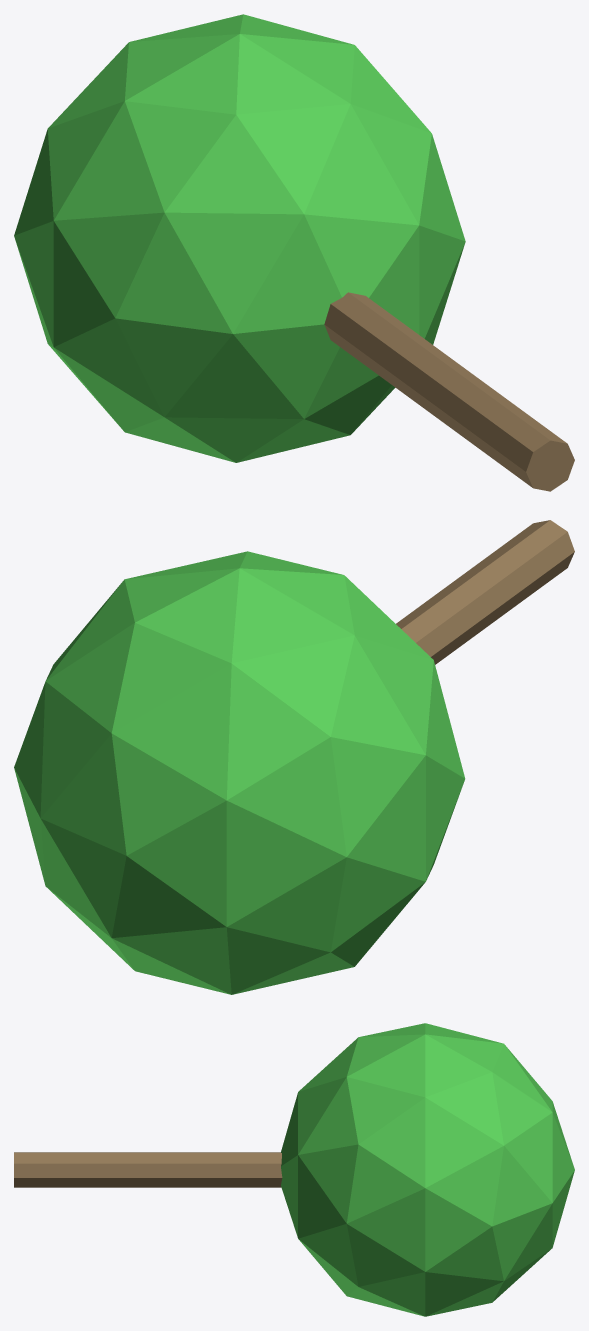
The model's file is tree1.fbx.
The picture shows the model from 3 angles, top to bottom: view 1: azimuth 30°, elevation 25°; view 2: azimuth 150°, elevation 25°; view 3: azimuth 270°, elevation 25°; orthographic projection. The views are drawn at different scales.
Visible parts, largest first — view 1: Tree_Trunk; view 2: Tree_Trunk; view 3: Tree_Trunk.
Part boxes in pixels (x1,y1,x2,y2): Tree_Trunk: (14, 14, 574, 491); Tree_Trunk: (14, 520, 574, 994); Tree_Trunk: (14, 1023, 574, 1316).
Bounding box in the file's own units: 152 × 160 × 300.
